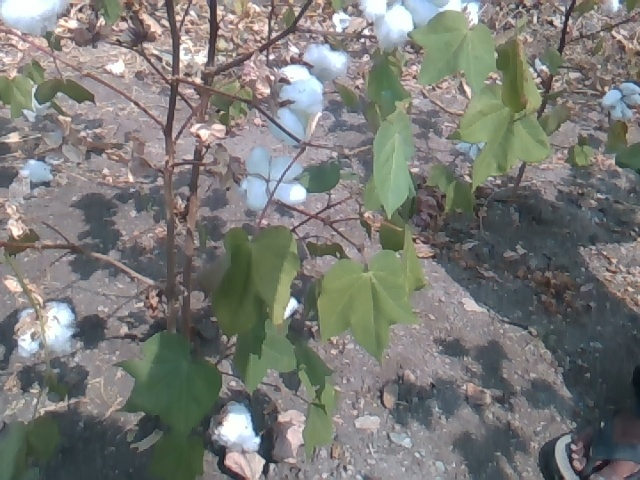cotton: (365, 1, 485, 57), (262, 61, 325, 152), (237, 146, 309, 220), (15, 296, 87, 363), (211, 400, 264, 457), (304, 39, 354, 94), (6, 1, 67, 39), (600, 71, 639, 120), (263, 293, 301, 320)
